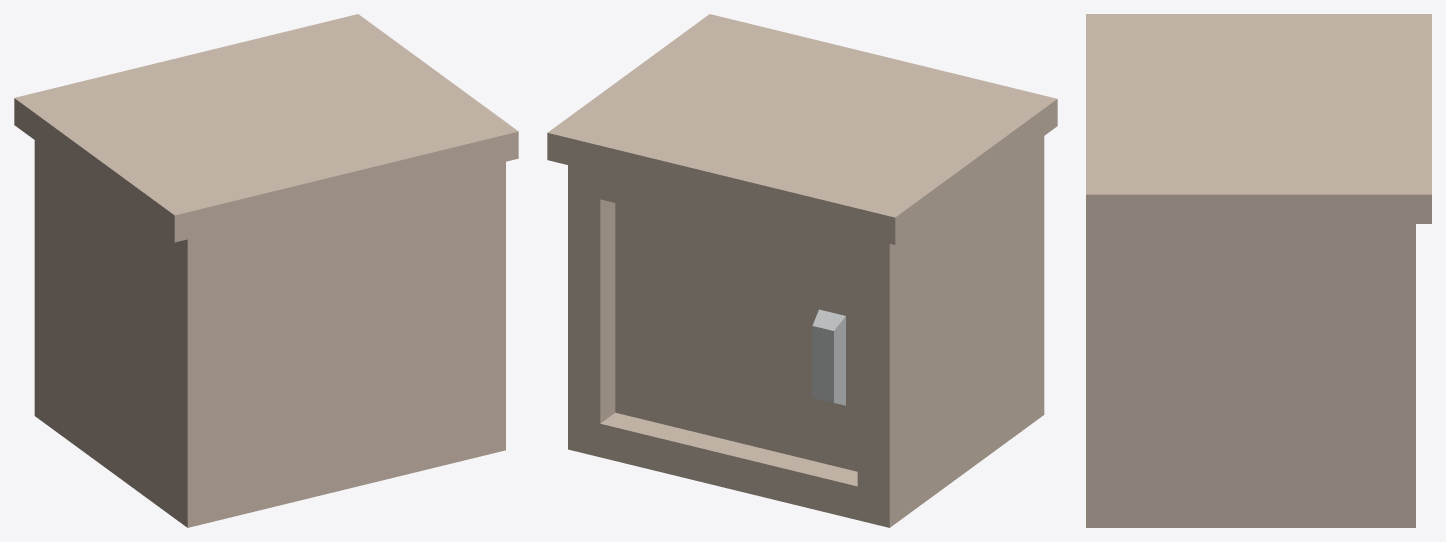
File: furn_cabinetBed.glb
3 renders of one model, left to right at view 1: azimuth 30°, elevation 25°; view 2: azimuth 150°, elevation 25°; view 3: azimuth 270°, elevation 25°, orthographic. The views are drawn at different scales.
Bounding box in the file's own units: 0.532 × 0.4664 × 0.43.
